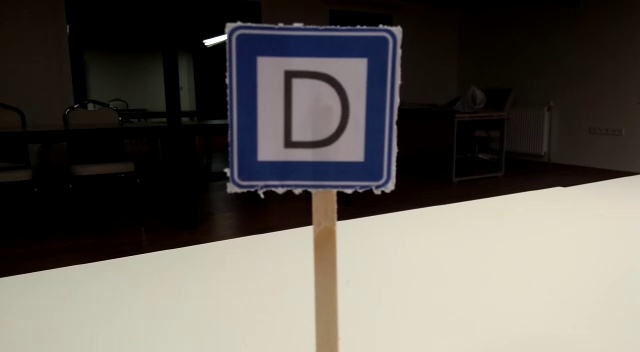durak: (228, 27, 397, 192)
